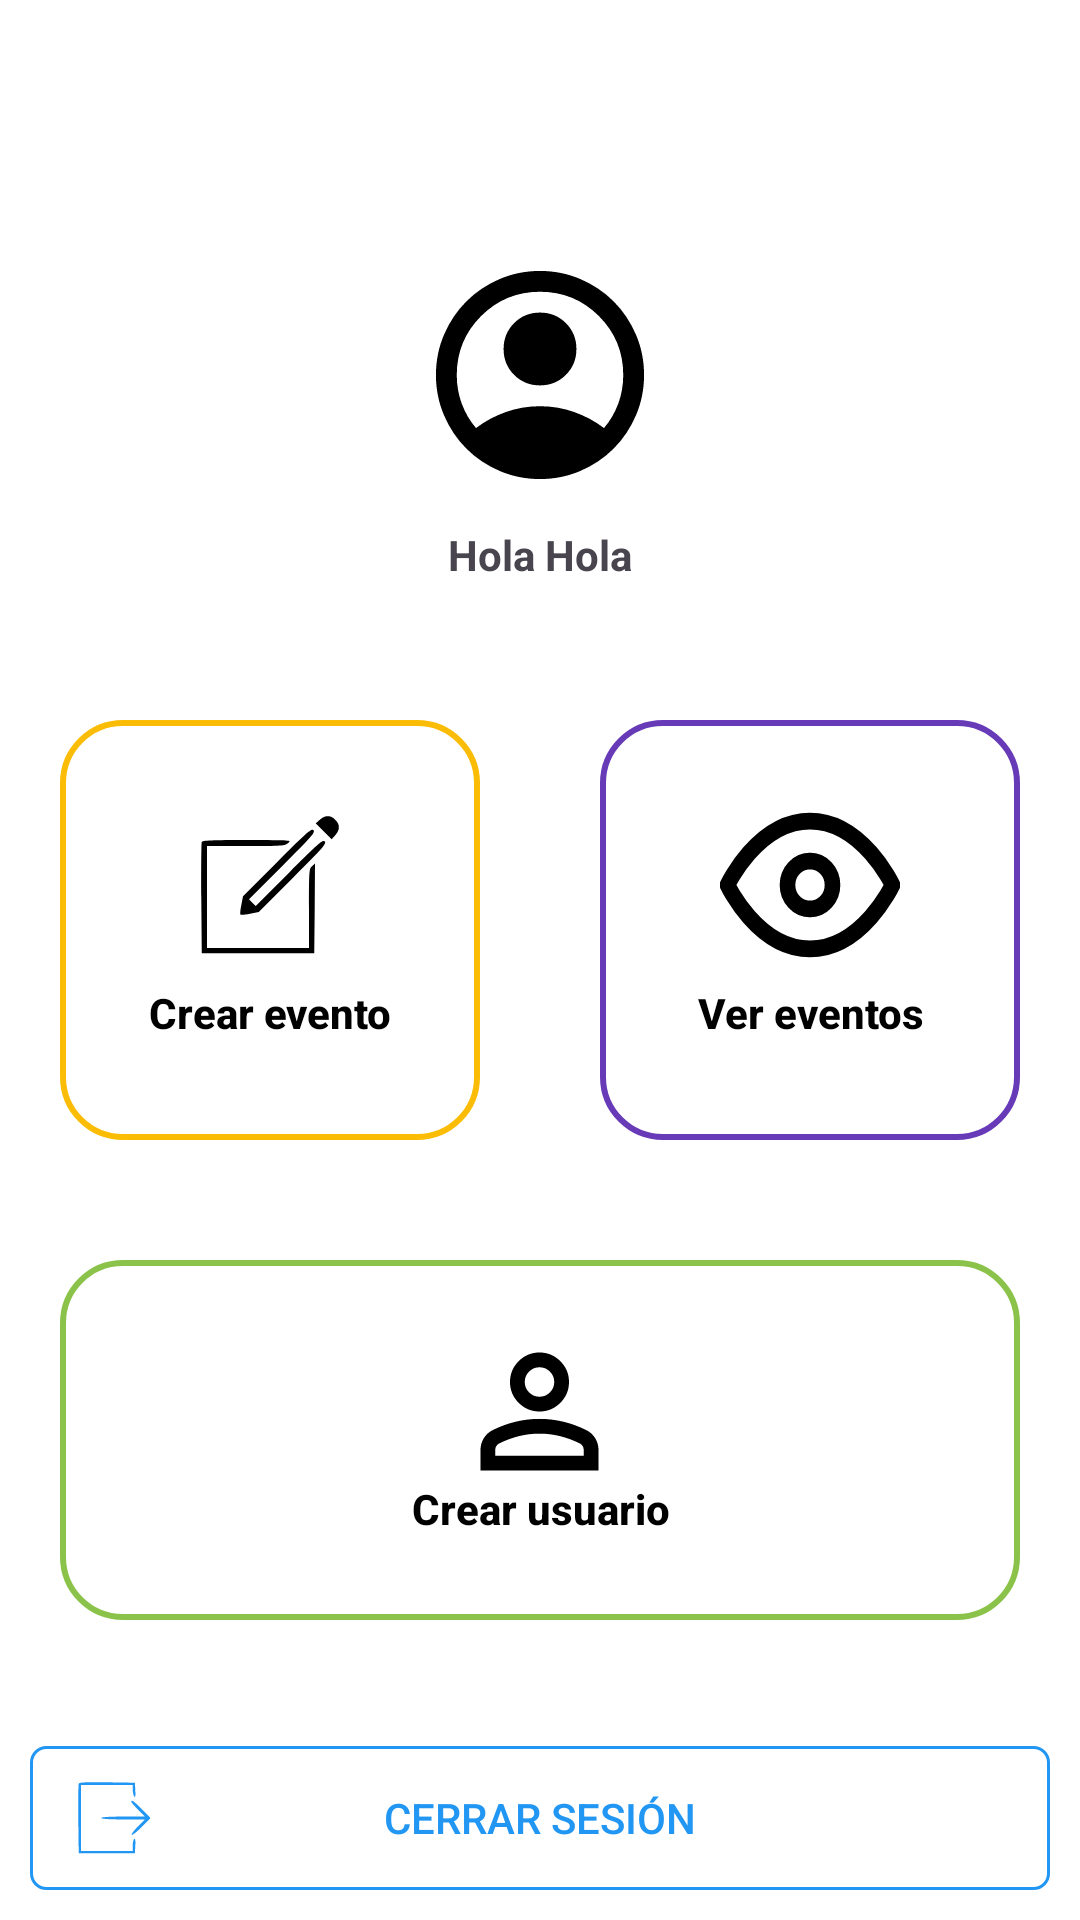

Icons on this 1080w x 1920h Android screen, each with its box as (x1, y1, x2, y2):
account: (436, 271, 644, 479)
